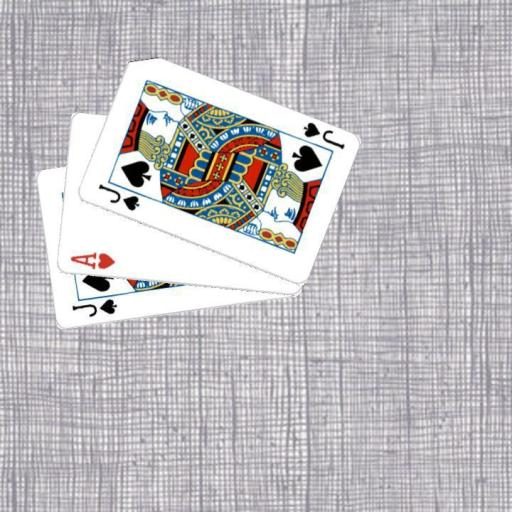card-corner: (94, 180, 140, 212), (300, 119, 346, 151), (68, 296, 118, 319), (67, 249, 116, 271)
